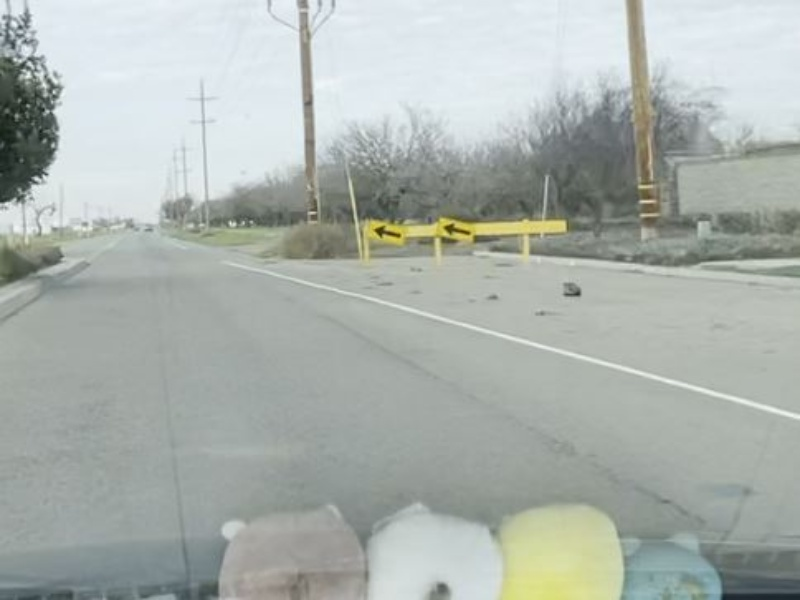merge sign: (432, 214, 478, 246), (363, 217, 408, 249)
